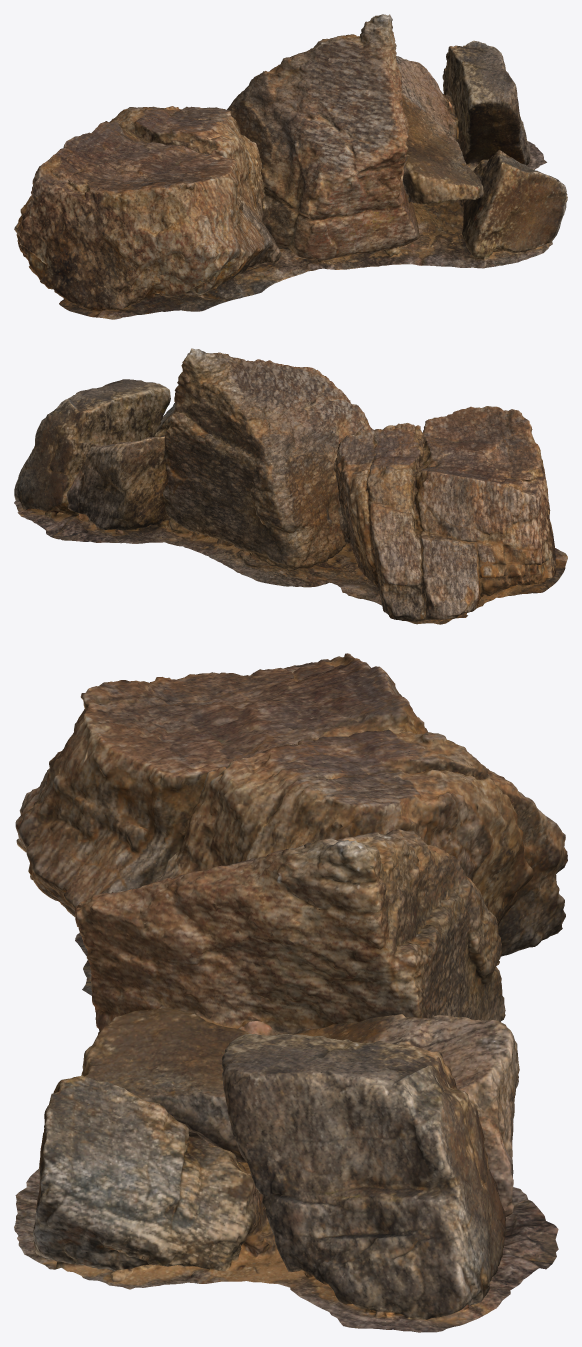
File: namaqualand_boulder_02-v01.glb
3 views of the same model, one above another, from view 1: azimuth 30°, elevation 25°; view 2: azimuth 150°, elevation 25°; view 3: azimuth 270°, elevation 25° (orthographic). The views are drawn at different scales.
Parts seen in each view (by area): view 1: boulder_02; view 2: boulder_02; view 3: boulder_02.
Part boxes in pixels (x1,y1,x2,y2): boulder_02: (14, 14, 567, 319); boulder_02: (14, 348, 567, 624); boulder_02: (14, 653, 567, 1332).
Size of the model in its own units: 2.53 by 0.8826 by 1.23.
1 material, 1 textured.
